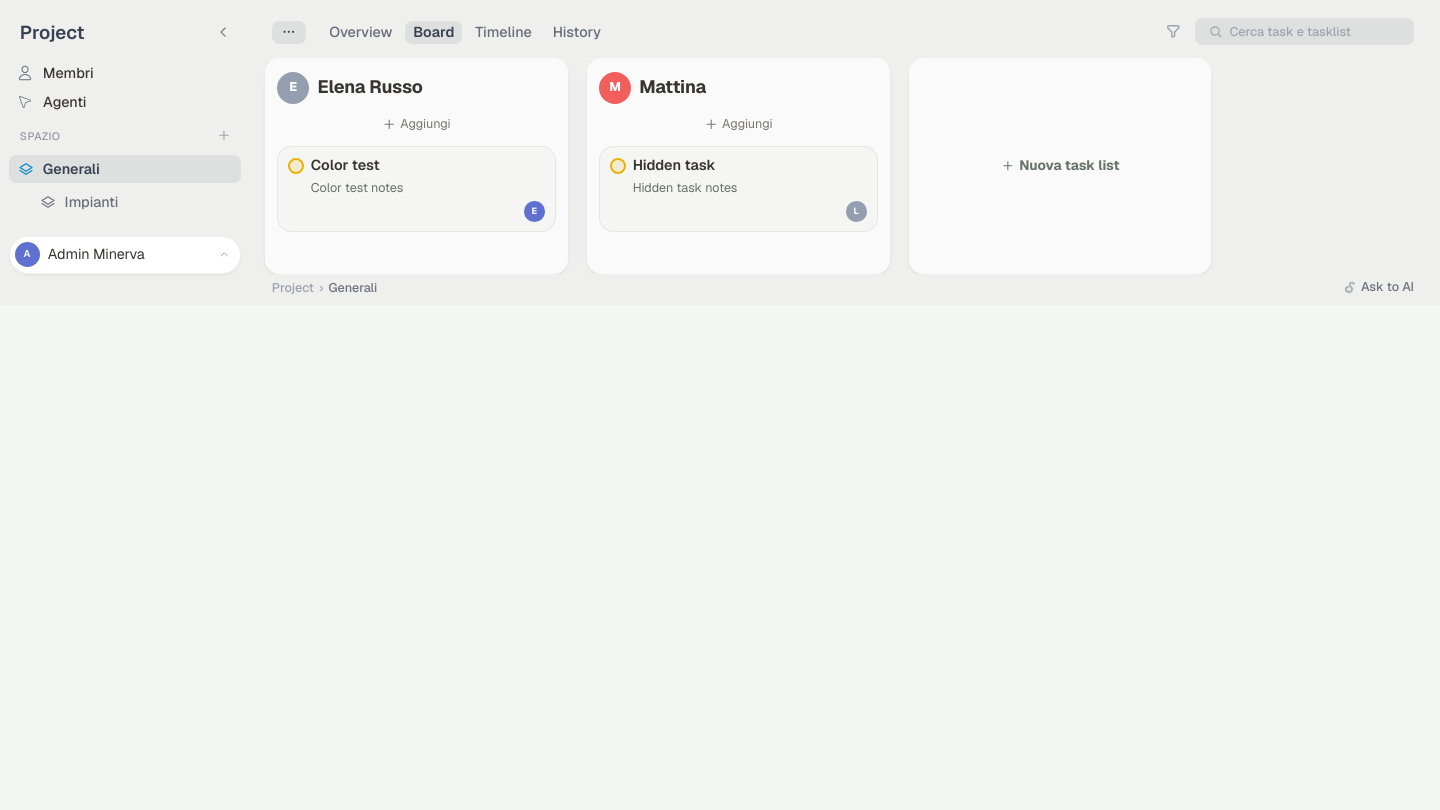
Test: board shell › materializes a confirmed UserProxy create-task plan with the current user action
Click the button "Ask to AI".
click(1378, 288)  # box [1336,275,1419,300]
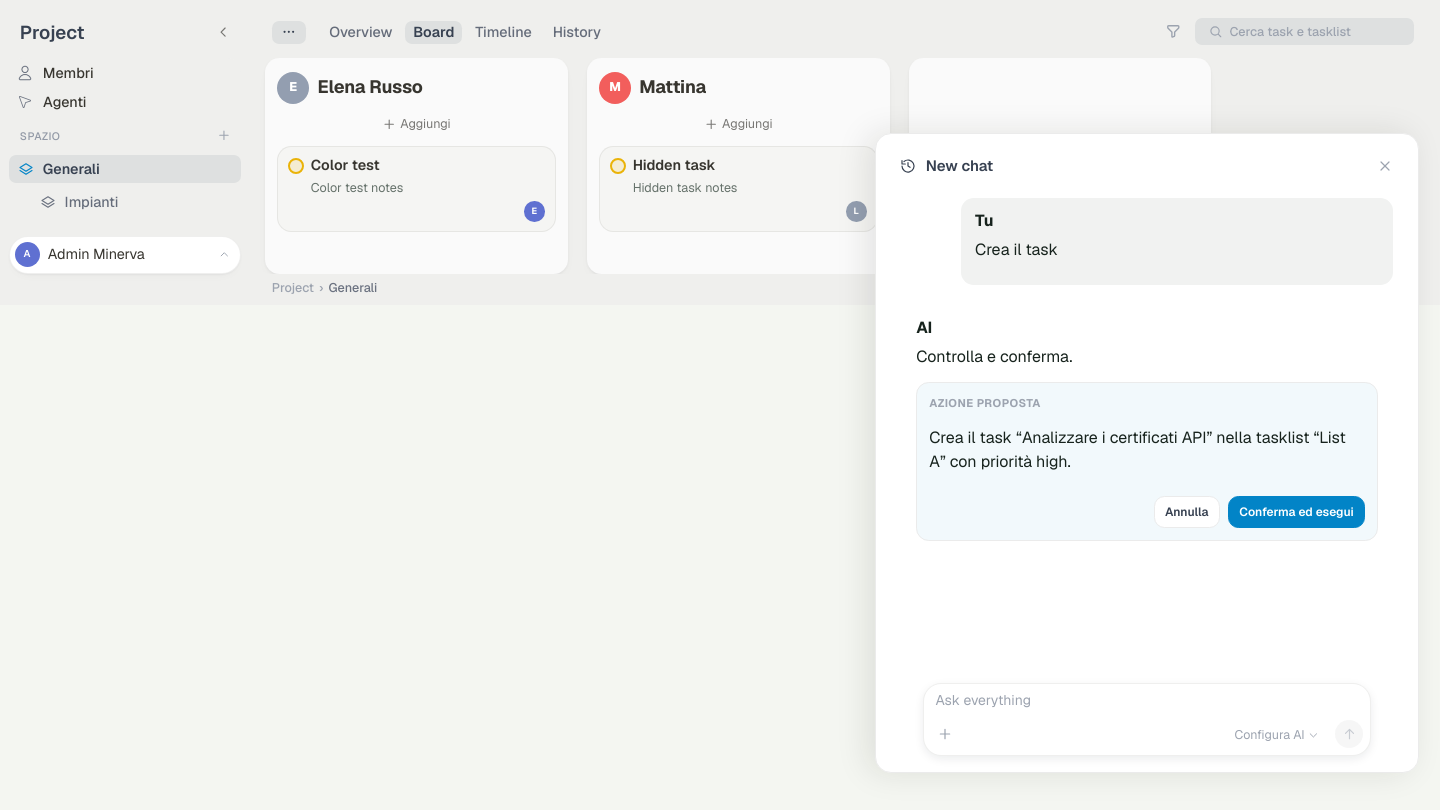
Click the button "Conferma ed esegui".
click(1297, 512)  # box [1228,496,1365,528]
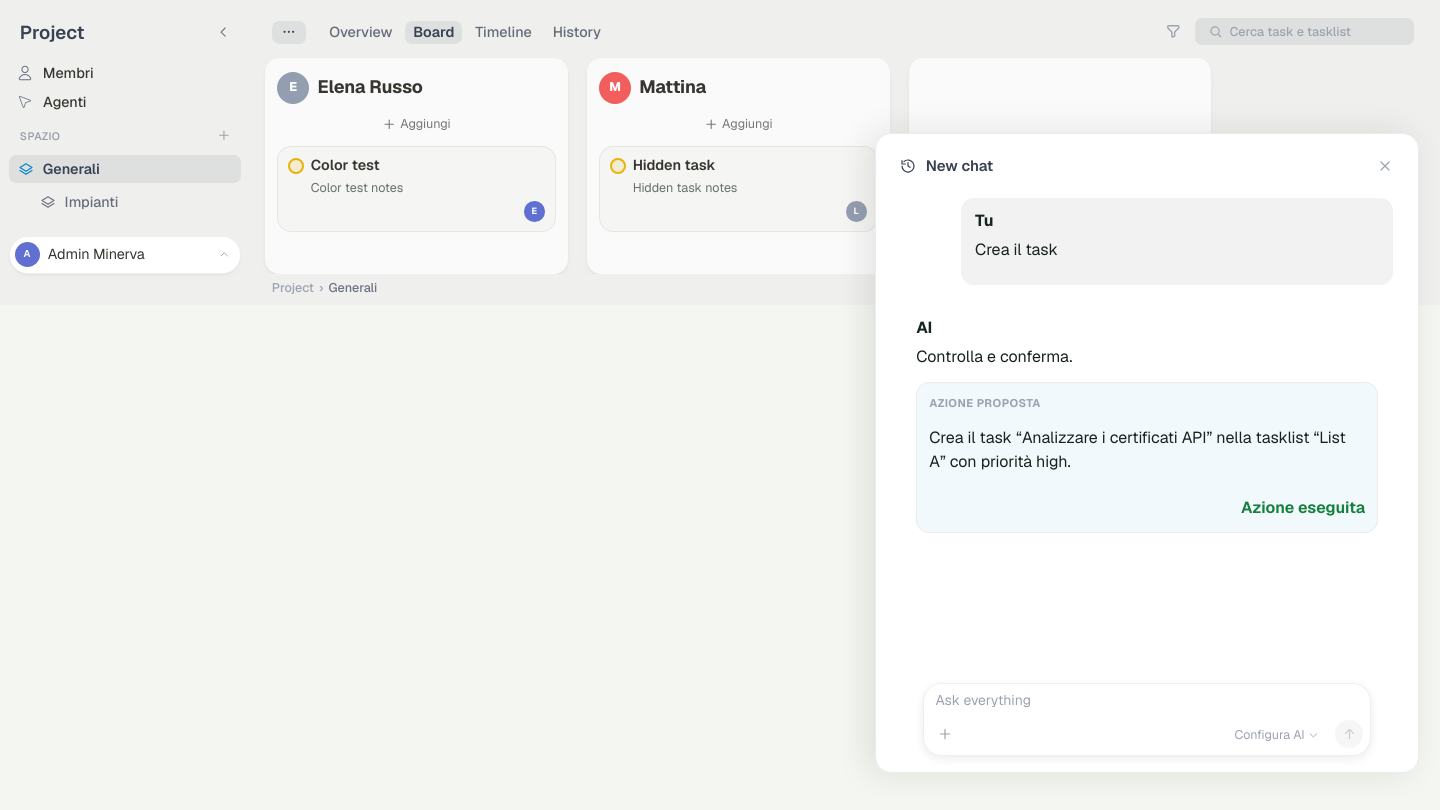
Now the text "Azione eseguita" is shown, box [1241,496,1365,520]
